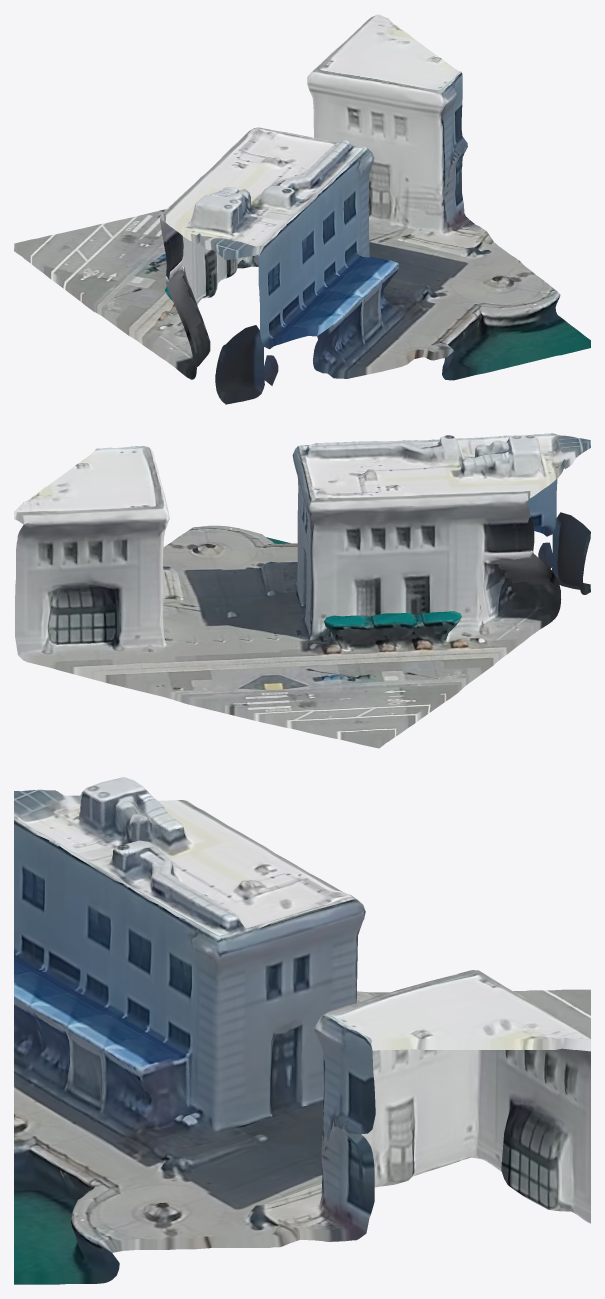
File: z20-167783-405211-h0-yup-uvflip-v3-world.glb
3 renders of one model, top to bottom at view 1: azimuth 30°, elevation 25°; view 2: azimuth 150°, elevation 25°; view 3: azimuth 270°, elevation 25°, orthographic. The views are drawn at different scales.
Size of the model in its own units: 30.2 by 15.92 by 30.32.
Materials: 1 (1 with a texture image).
